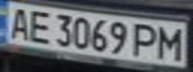0: (69, 15, 93, 51)
3: (51, 11, 75, 47)
6: (87, 17, 112, 53)
9: (106, 19, 133, 56)
A: (3, 4, 33, 40)
E: (24, 8, 54, 44)
M: (154, 24, 190, 61)
P: (130, 20, 163, 58)
